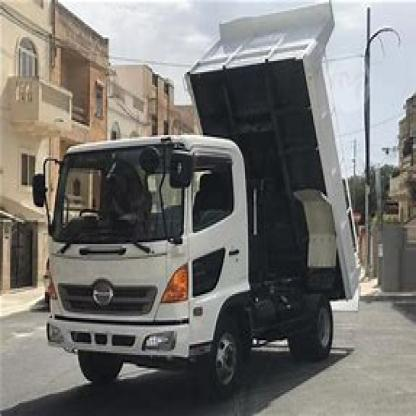dump_truck: (48, 4, 380, 401)
